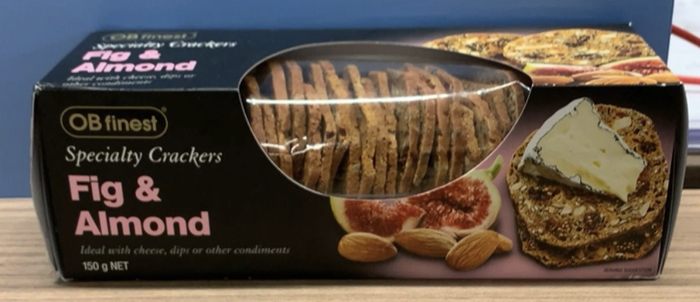crackers_150g: (69, 46, 651, 275)
